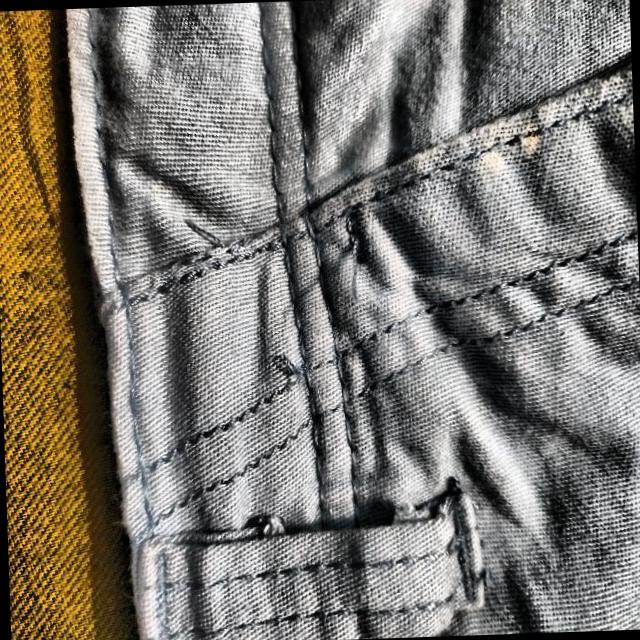gray stitch: (141, 181, 258, 273), (246, 328, 324, 431), (324, 201, 380, 309)
